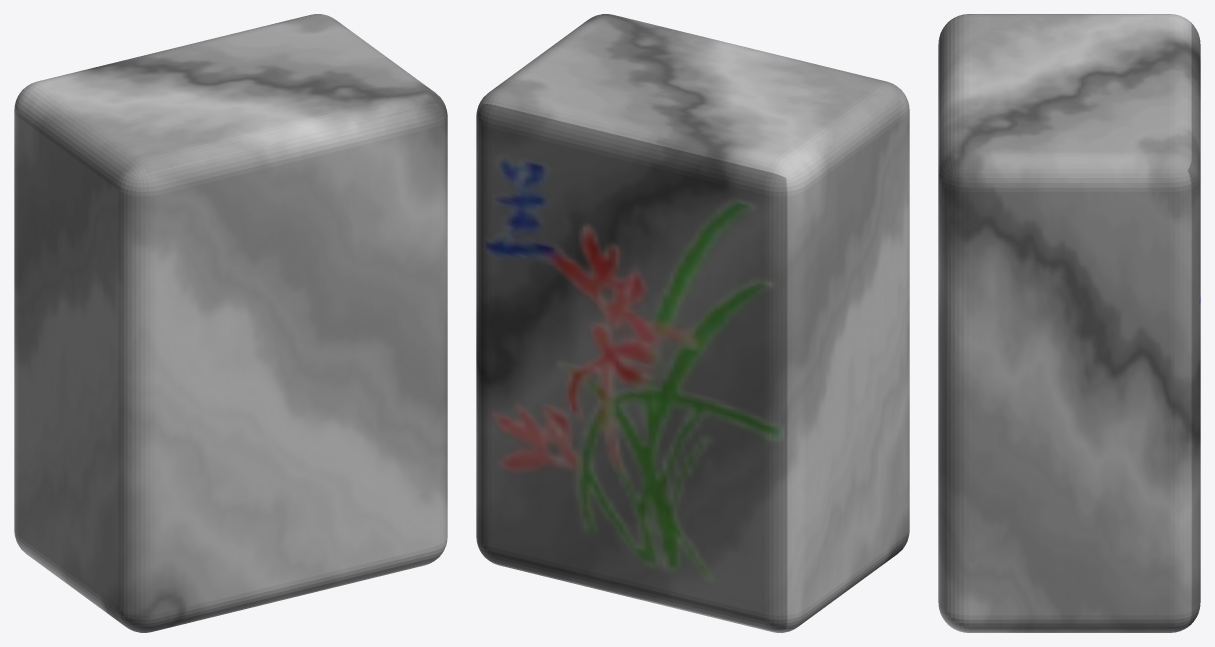
Rendered from flower2.fbx.
3 renders of one model, left to right at view 1: azimuth 30°, elevation 25°; view 2: azimuth 150°, elevation 25°; view 3: azimuth 270°, elevation 25°, orthographic.
Visible parts, largest first — view 1: flower3; view 2: flower3; view 3: flower3.
Boxes of the visible parts, box(x1,y1,x2,y2) form: flower3: box(14, 14, 447, 632); flower3: box(476, 14, 909, 632); flower3: box(938, 14, 1200, 632).
Size of the model in its own units: 100 by 139 by 69.
1 material, 1 textured.
